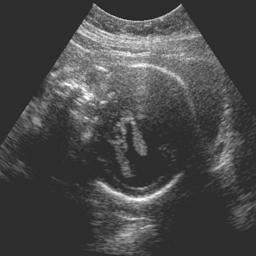abnormal: (73, 60, 199, 210)
